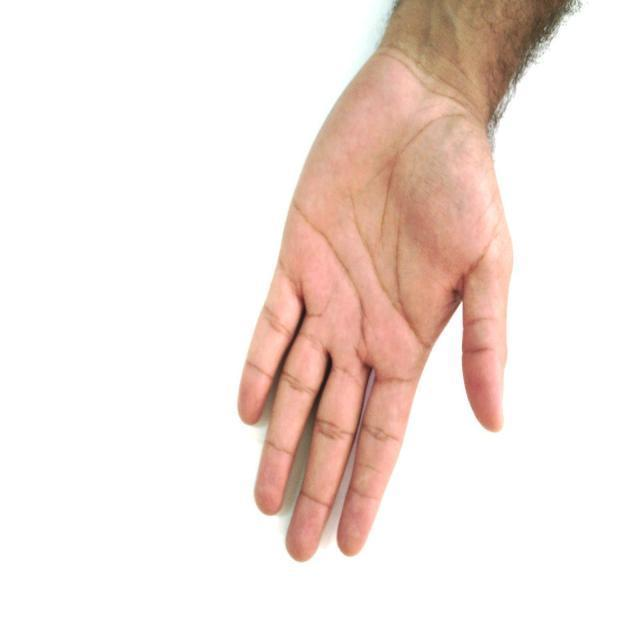hand: (236, 0, 584, 563)
